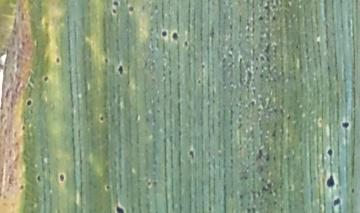tarspot: (324, 171, 337, 189), (325, 144, 336, 161), (340, 118, 351, 133), (115, 62, 125, 76), (187, 147, 197, 161), (57, 172, 68, 183), (23, 97, 34, 108), (331, 196, 342, 207), (108, 7, 119, 18), (115, 202, 125, 213), (159, 28, 169, 39), (171, 30, 180, 41), (52, 56, 63, 65), (40, 75, 52, 83), (126, 4, 136, 13), (103, 182, 113, 191), (348, 185, 357, 195), (35, 173, 43, 183), (97, 113, 105, 123), (112, 1, 120, 8)
